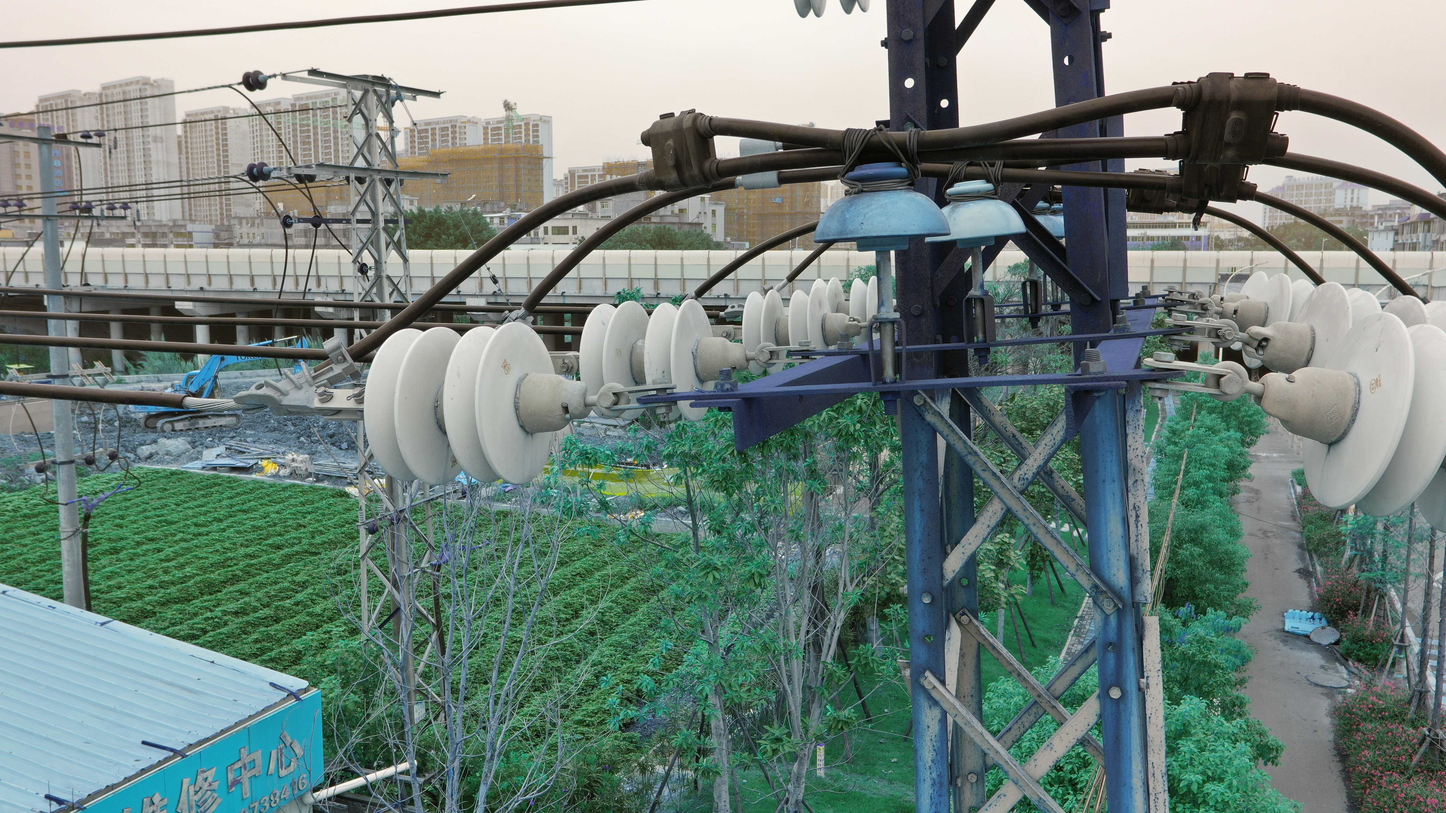severe_soiling_no_discharge_whole: (810, 155, 956, 253)
